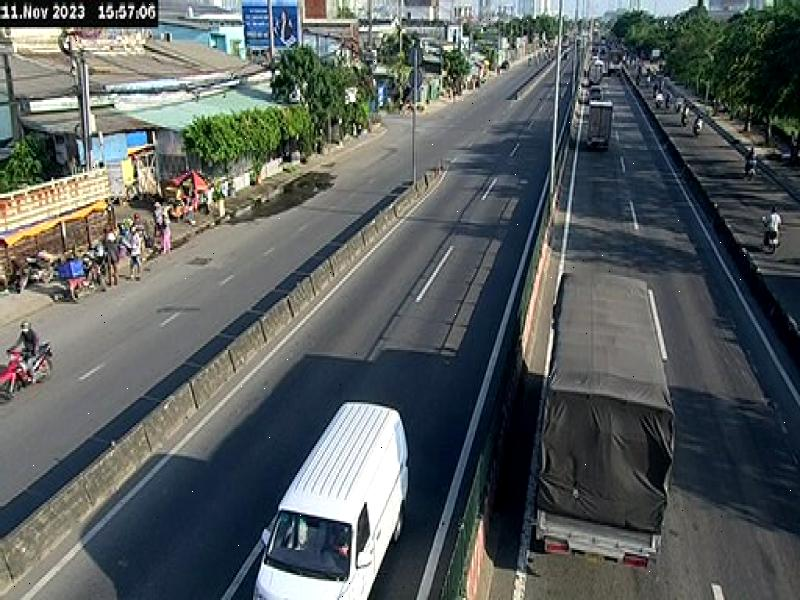truck: (532, 266, 674, 571), (584, 96, 616, 155)
